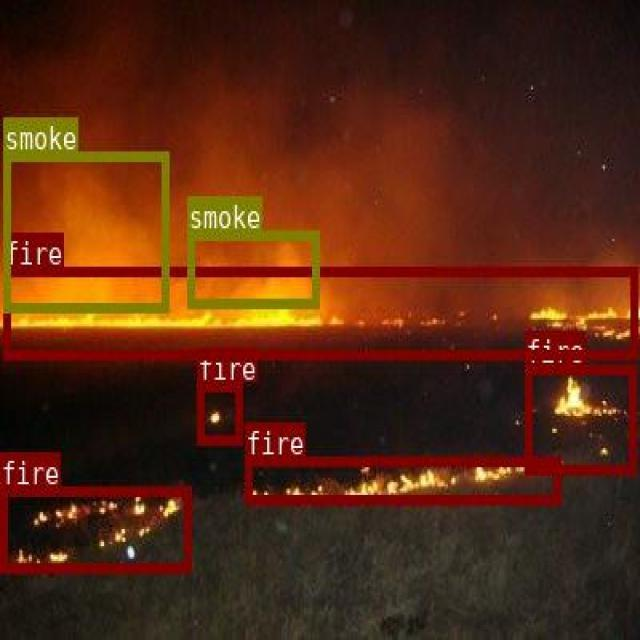fire: (2, 266, 636, 358), (0, 485, 190, 570), (244, 456, 559, 503), (523, 364, 635, 474), (196, 380, 241, 443)
smoke: (3, 151, 167, 310), (186, 229, 317, 307)
